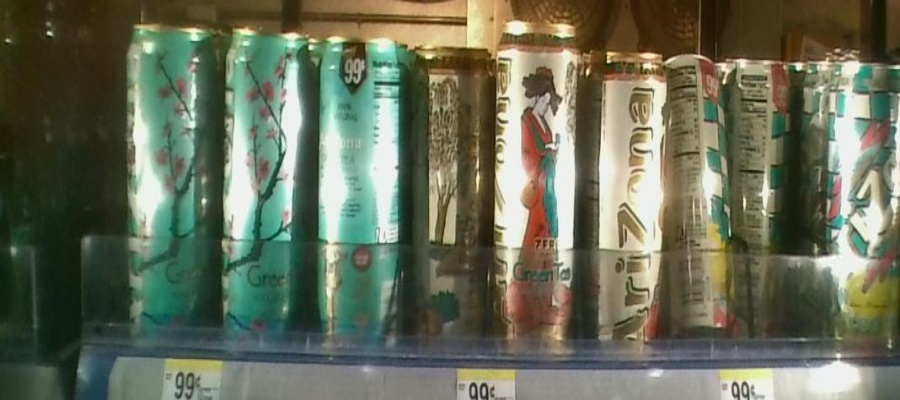bottle: (491, 5, 584, 363), (123, 6, 212, 344), (221, 29, 310, 353), (317, 20, 401, 359), (586, 35, 669, 369), (410, 20, 491, 359), (824, 51, 900, 363), (730, 49, 796, 365), (670, 45, 728, 374)
